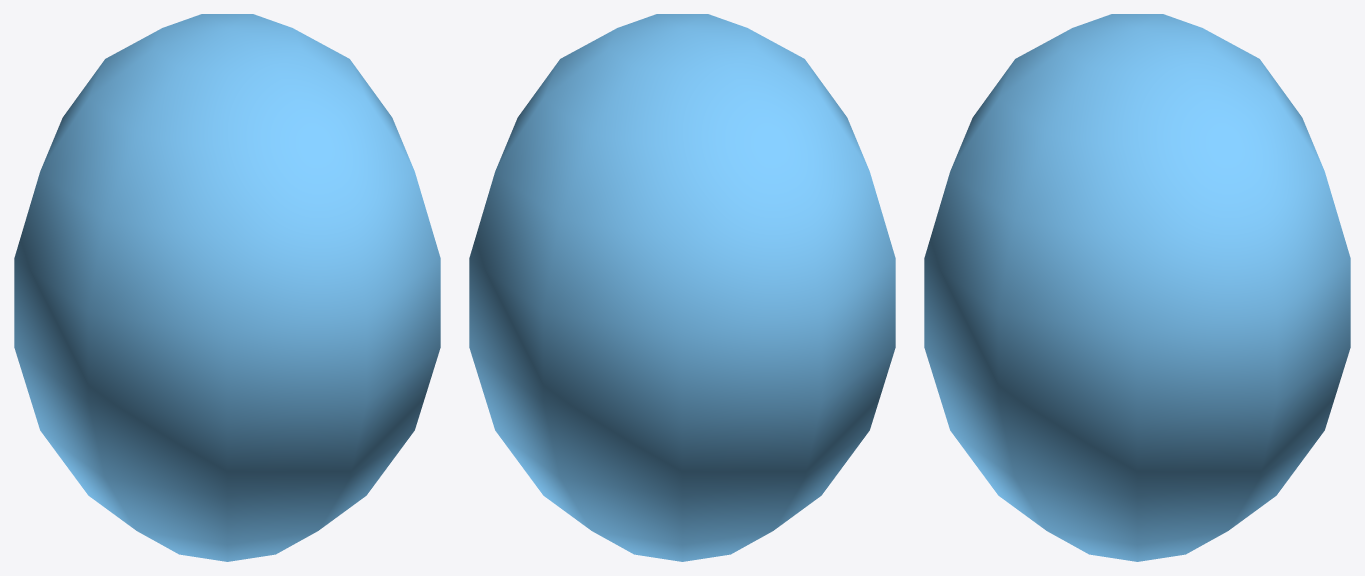
Rendered from snowkit_stage1.obj.
3 renders of one model, left to right at view 1: azimuth 30°, elevation 25°; view 2: azimuth 150°, elevation 25°; view 3: azimuth 270°, elevation 25°, orthographic.
Size of the model in its own units: 1.24 by 1.69 by 1.26.
